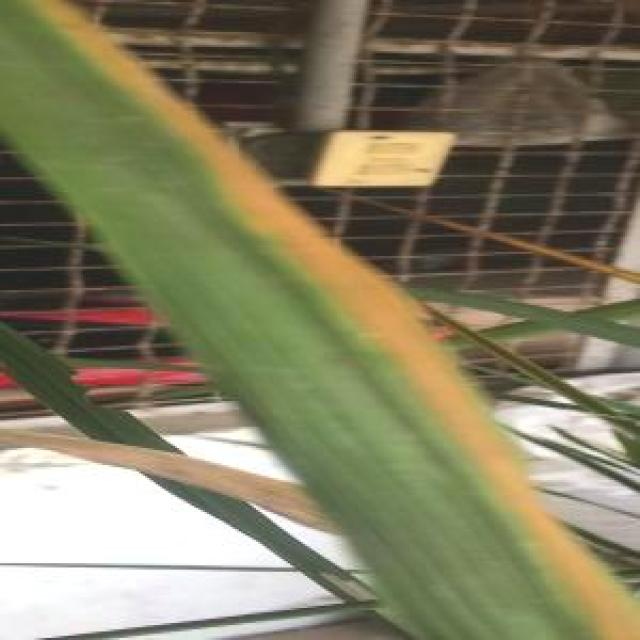Bacterial_Leaf_Blight: (248, 320, 536, 636)
